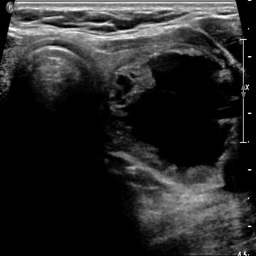mass: (115, 54, 235, 175)
